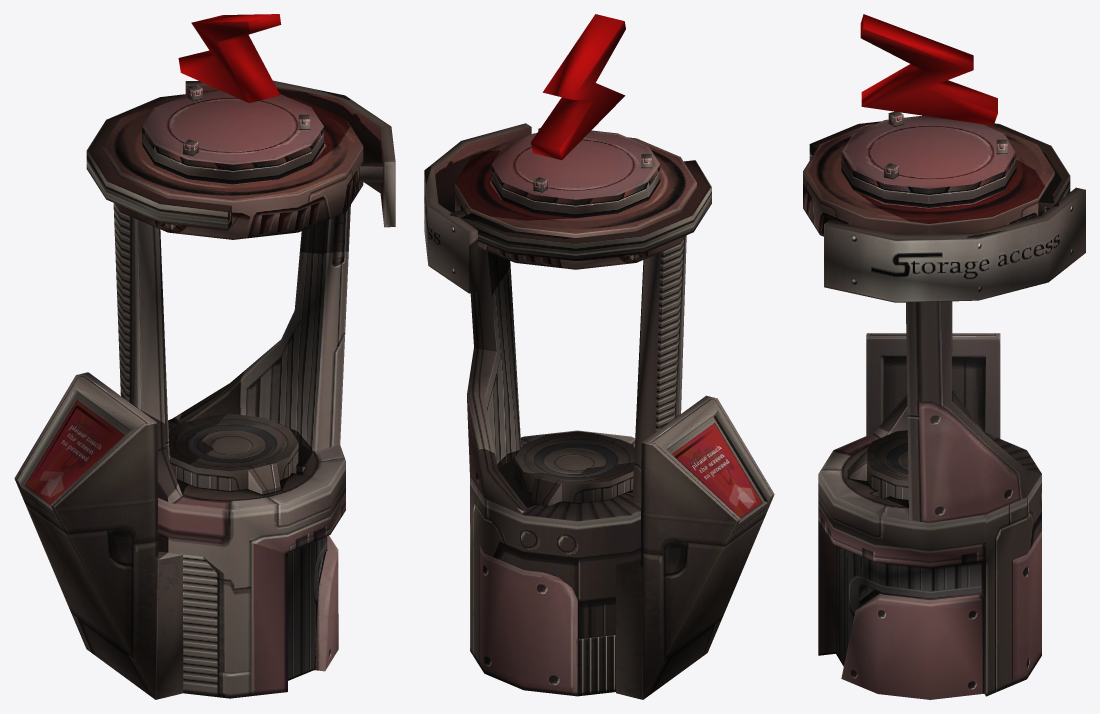
Rendered from storageaccess.glb.
The picture shows the model from 3 angles, left to right: view 1: azimuth 30°, elevation 25°; view 2: azimuth 150°, elevation 25°; view 3: azimuth 270°, elevation 25°; orthographic projection. The views are drawn at different scales.
Visible parts, largest first — view 1: __lithtech_lh_to_gltf_rh__; view 2: __lithtech_lh_to_gltf_rh__; view 3: __lithtech_lh_to_gltf_rh__.
Part boxes in pixels (x1,y1,x2,y2): __lithtech_lh_to_gltf_rh__: [14, 14, 395, 699]; __lithtech_lh_to_gltf_rh__: [424, 14, 774, 699]; __lithtech_lh_to_gltf_rh__: [803, 14, 1085, 699].
Size of the model in its own units: 94.17 by 175 by 70.84.
Materials: 1 (1 with a texture image).
